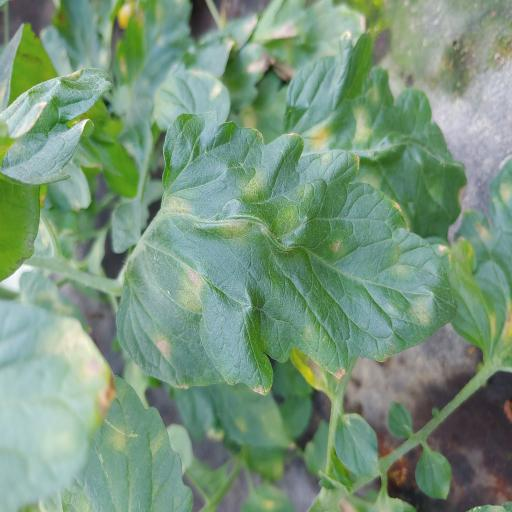disease_tomato: (114, 109, 458, 400)
